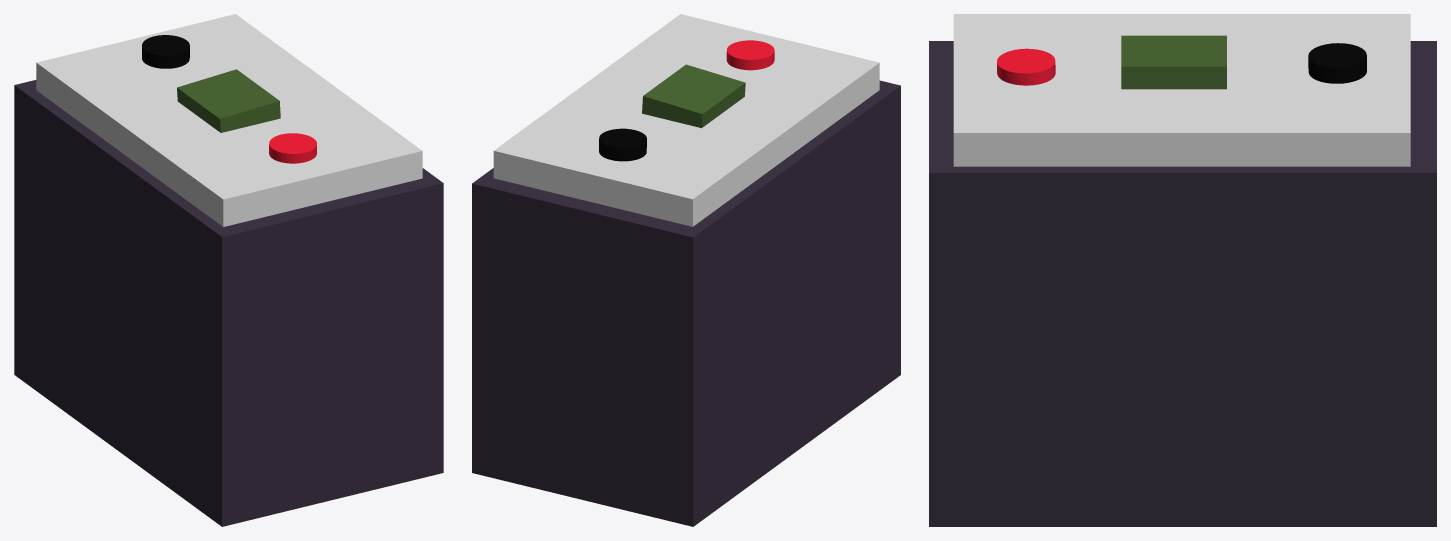
The model's file is Batterie.fbx.
3 views of the same model, side by side, from view 1: azimuth 30°, elevation 25°; view 2: azimuth 150°, elevation 25°; view 3: azimuth 270°, elevation 25° (orthographic). The views are drawn at different scales.
Visible parts, largest first — view 1: Cube.003; view 2: Cube.003; view 3: Cube.003.
Part boxes in pixels (bbox=[...]): Cube.003: bbox=[14, 14, 443, 526]; Cube.003: bbox=[472, 14, 900, 526]; Cube.003: bbox=[929, 14, 1436, 526].
Size of the model in its own units: 160 by 231 by 260.
